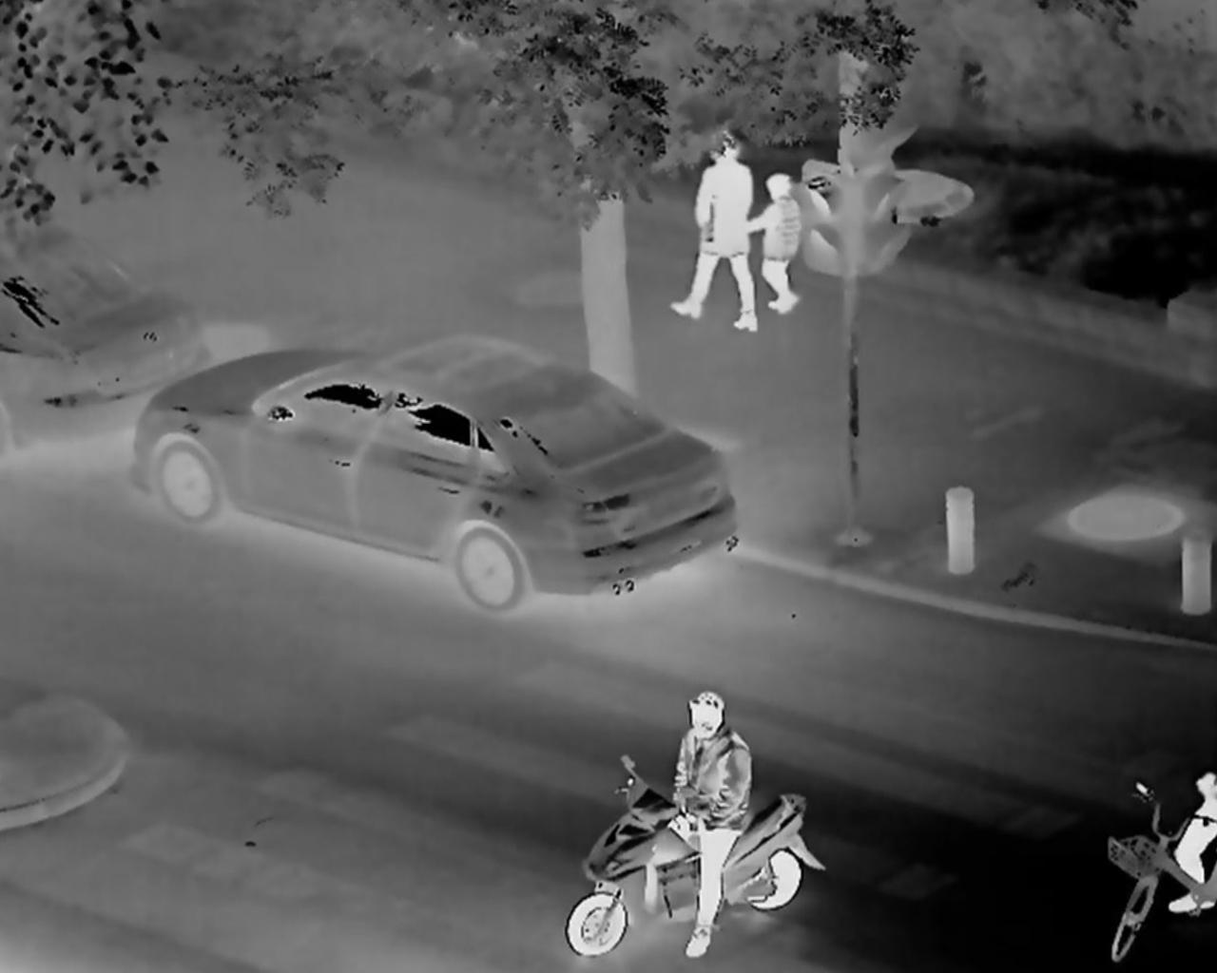person: (660, 691, 758, 962), (679, 136, 762, 329), (1179, 757, 1217, 924), (762, 174, 804, 323)
